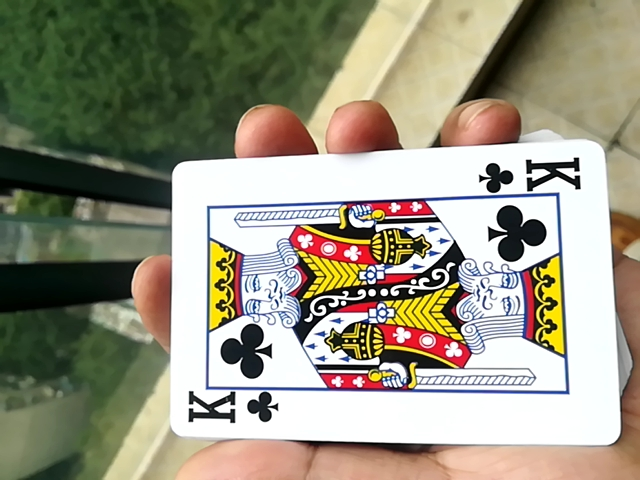mh k: (157, 139, 611, 455)
